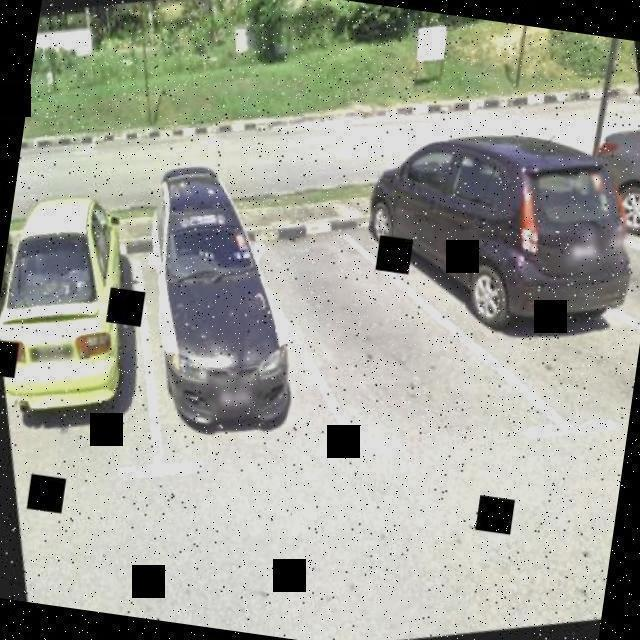Car: (86, 101, 351, 498), (336, 74, 640, 404), (0, 161, 176, 457), (573, 69, 640, 242)
Vacant: (238, 200, 502, 484)
